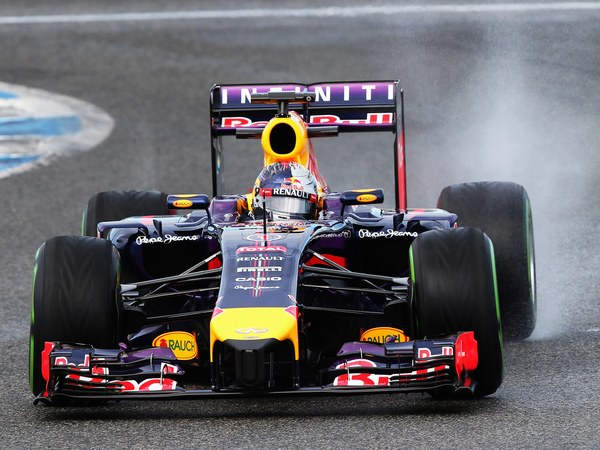f1_car: (19, 72, 546, 420)
